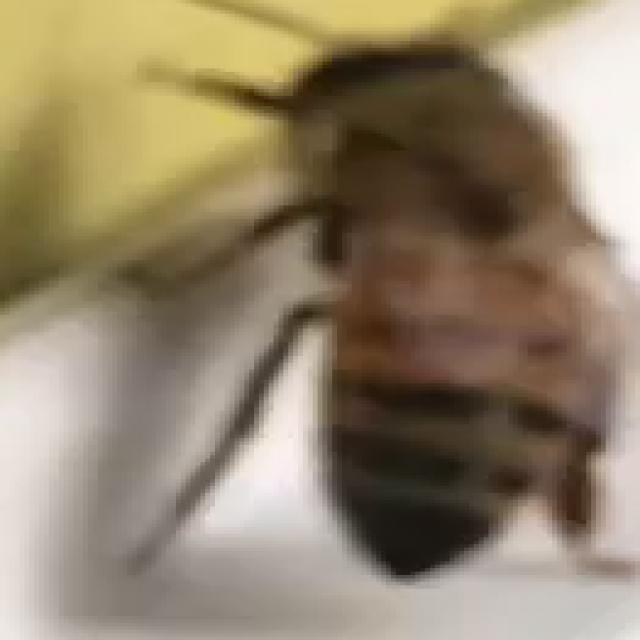honeybee: (171, 28, 640, 602)
